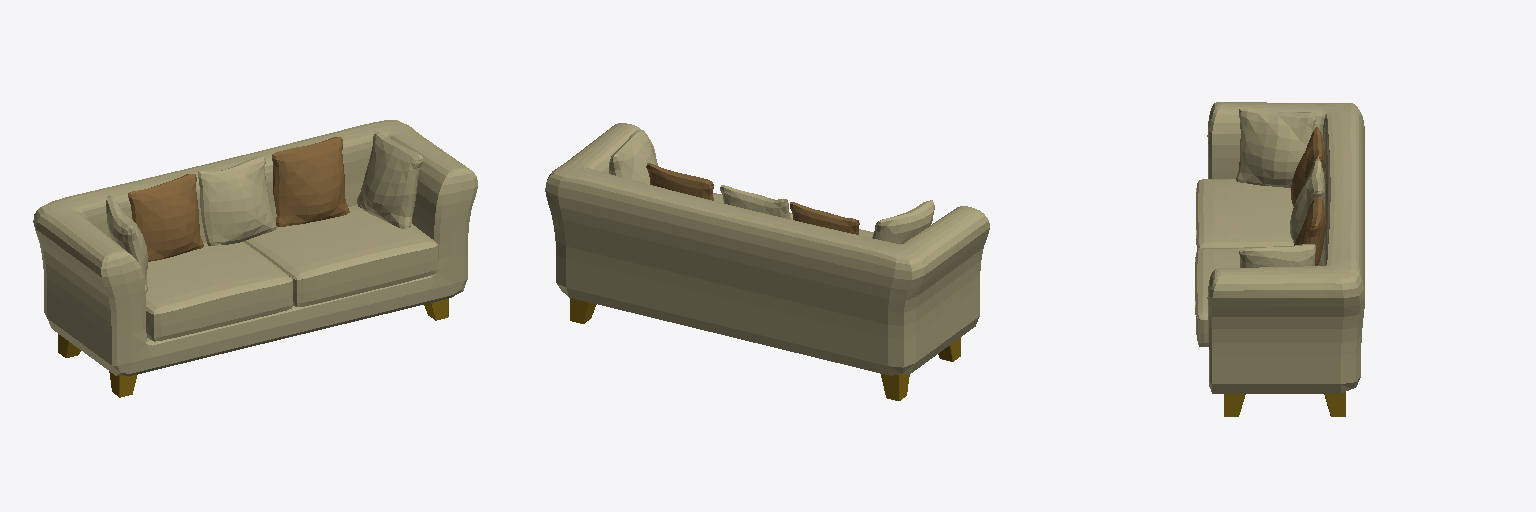
File: clear_sofa.obj
3 views of the same model, side by side, from view 1: azimuth 30°, elevation 25°; view 2: azimuth 150°, elevation 25°; view 3: azimuth 270°, elevation 25° (orthographic).
Parts seen in each view (by area): view 1: sofa_Cube, big_cushion2_Cube.001, big_cushion1_Cube.003, cushion_dark2_Cube.005, cushion_clear1_Cube.004, cushion_dark_Cube.028, cushion_clear3_Cube.007, cushion_clear2_Cube.006, legs_Cube.008; view 2: sofa_Cube, cushion_clear3_Cube.007, cushion_clear2_Cube.006, legs_Cube.008, cushion_dark2_Cube.005, cushion_clear1_Cube.004, cushion_dark_Cube.028; view 3: sofa_Cube, big_cushion1_Cube.003, cushion_clear2_Cube.006, big_cushion2_Cube.001, cushion_clear3_Cube.007, cushion_clear1_Cube.004, cushion_dark2_Cube.005, cushion_dark_Cube.028, legs_Cube.008.
Boxes of the visible parts, x1=… form: sofa_Cube: x1=33, y1=120, x2=477, y2=376; big_cushion2_Cube.001: x1=243, y1=205, x2=437, y2=306; big_cushion1_Cube.003: x1=146, y1=242, x2=292, y2=341; cushion_dark2_Cube.005: x1=272, y1=137, x2=349, y2=226; cushion_clear1_Cube.004: x1=198, y1=156, x2=276, y2=245; cushion_dark_Cube.028: x1=128, y1=174, x2=203, y2=261; cushion_clear3_Cube.007: x1=357, y1=131, x2=422, y2=229; cushion_clear2_Cube.006: x1=106, y1=195, x2=147, y2=292; legs_Cube.008: x1=58, y1=299, x2=448, y2=397; sofa_Cube: x1=545, y1=123, x2=989, y2=375; cushion_clear3_Cube.007: x1=609, y1=130, x2=657, y2=184; cushion_clear2_Cube.006: x1=872, y1=200, x2=934, y2=243; legs_Cube.008: x1=570, y1=298, x2=960, y2=400; cushion_dark2_Cube.005: x1=646, y1=163, x2=713, y2=200; cushion_clear1_Cube.004: x1=720, y1=185, x2=790, y2=219; cushion_dark_Cube.028: x1=790, y1=202, x2=859, y2=234; sofa_Cube: x1=1207, y1=102, x2=1364, y2=393; big_cushion1_Cube.003: x1=1196, y1=179, x2=1293, y2=250; cushion_clear2_Cube.006: x1=1236, y1=109, x2=1315, y2=187; big_cushion2_Cube.001: x1=1195, y1=247, x2=1318, y2=346; cushion_clear3_Cube.007: x1=1239, y1=244, x2=1315, y2=267; cushion_clear1_Cube.004: x1=1290, y1=157, x2=1324, y2=243; cushion_dark2_Cube.005: x1=1294, y1=195, x2=1325, y2=265; cushion_dark_Cube.028: x1=1291, y1=127, x2=1324, y2=206; legs_Cube.008: x1=1224, y1=392, x2=1345, y2=416.
Bounding box in the file's own units: 260 × 107 × 102.